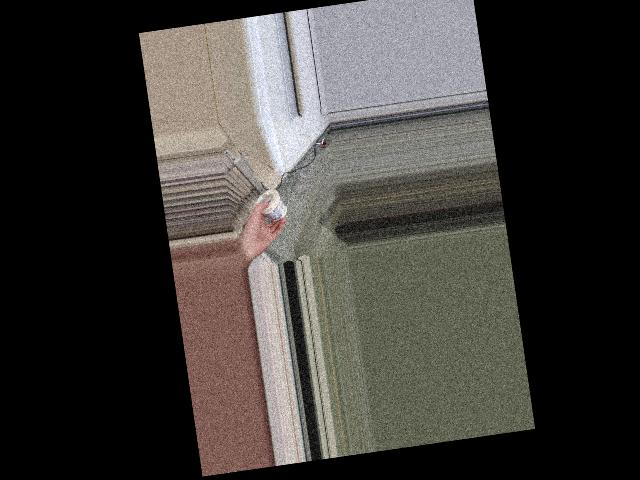cotage: (255, 188, 289, 225)
